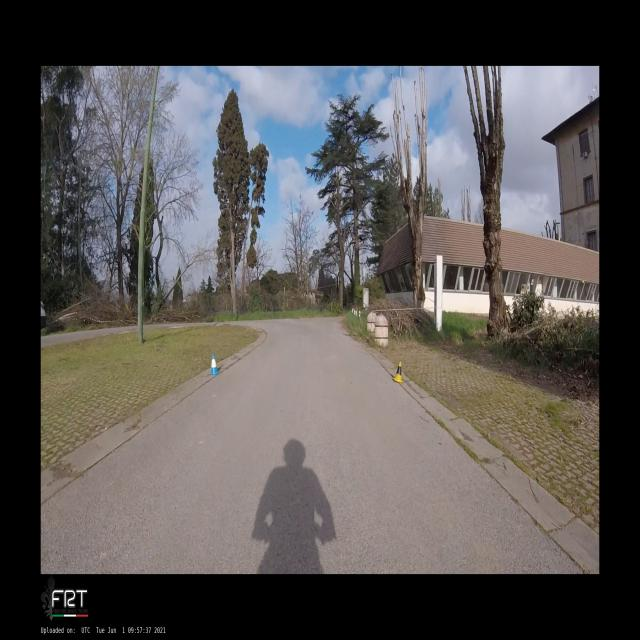blue_cone: (210, 354, 220, 374)
yellow_cone: (392, 361, 403, 383)
